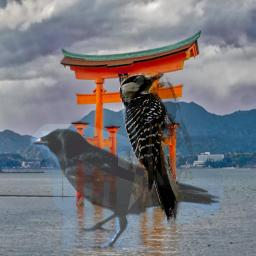Crow: (30, 124, 223, 251)
Woodpecker: (118, 72, 193, 226)
